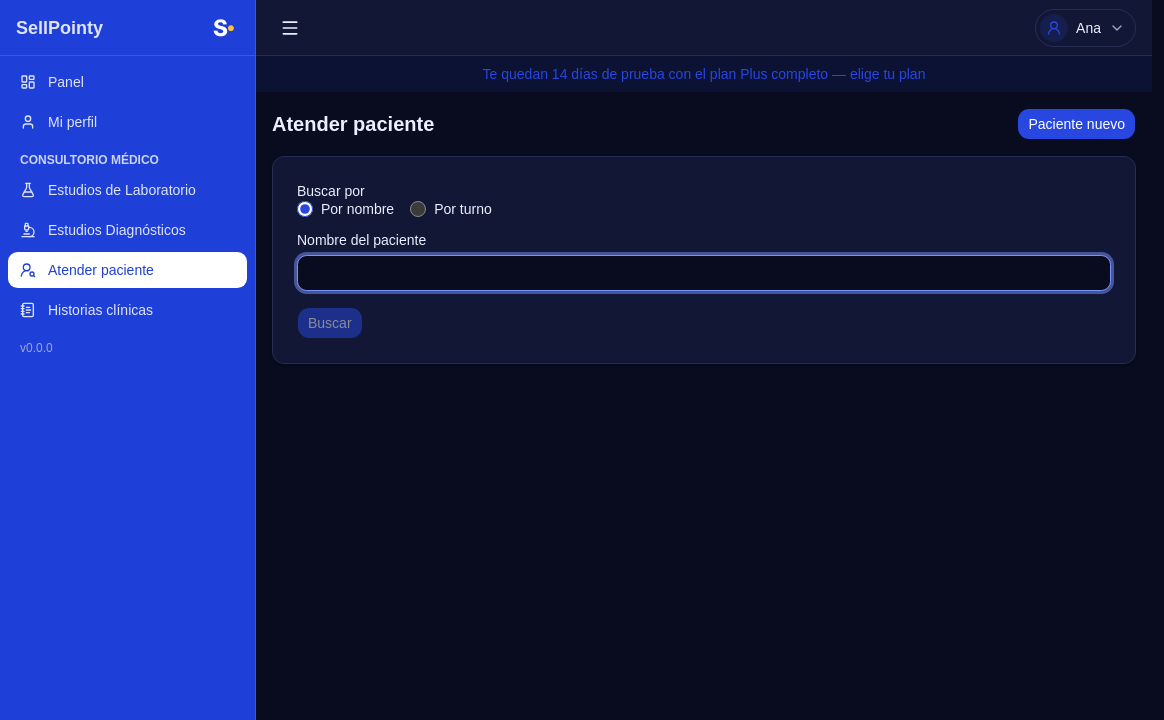
Scenario: Atender paciente (F9-CLINIC-WEB-07) › cambiar a turno vacía el campo, solo admite dígitos y con un acierto NO navega solo
This screenshot has width=1164, height=720.
Type "rosa" into the field labelled "Nombre del paciente" at (704, 273), box [297,255,1111,291]
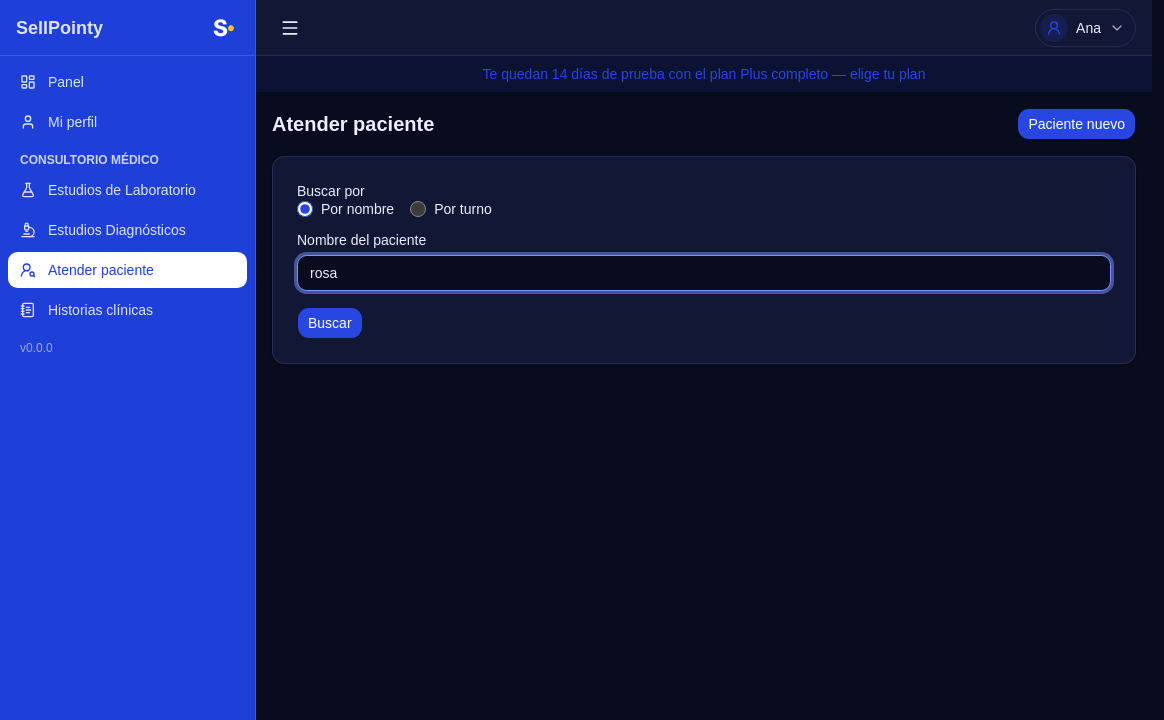
Click the radio button labelled "Por turno" at (418, 209), box [410,201,426,217]
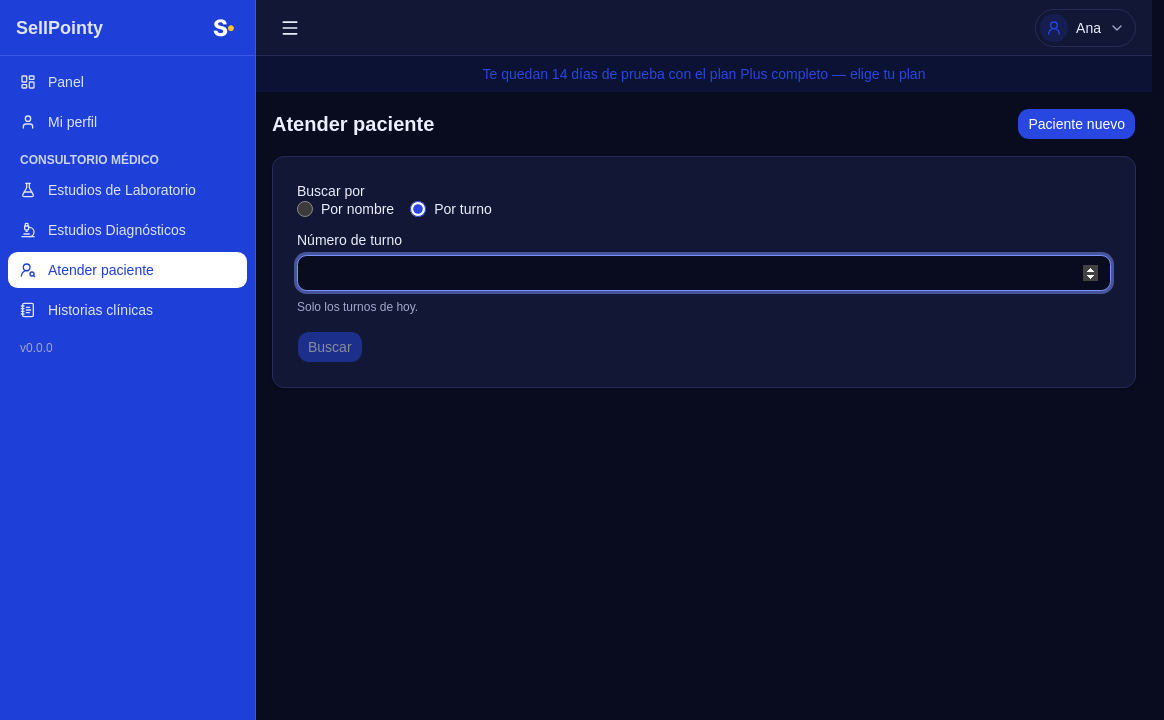
Expected: the number field labelled "Número de turno" is not empty
Type "a12b" into the number field labelled "Número de turno" at (704, 273), box [297,255,1111,291]
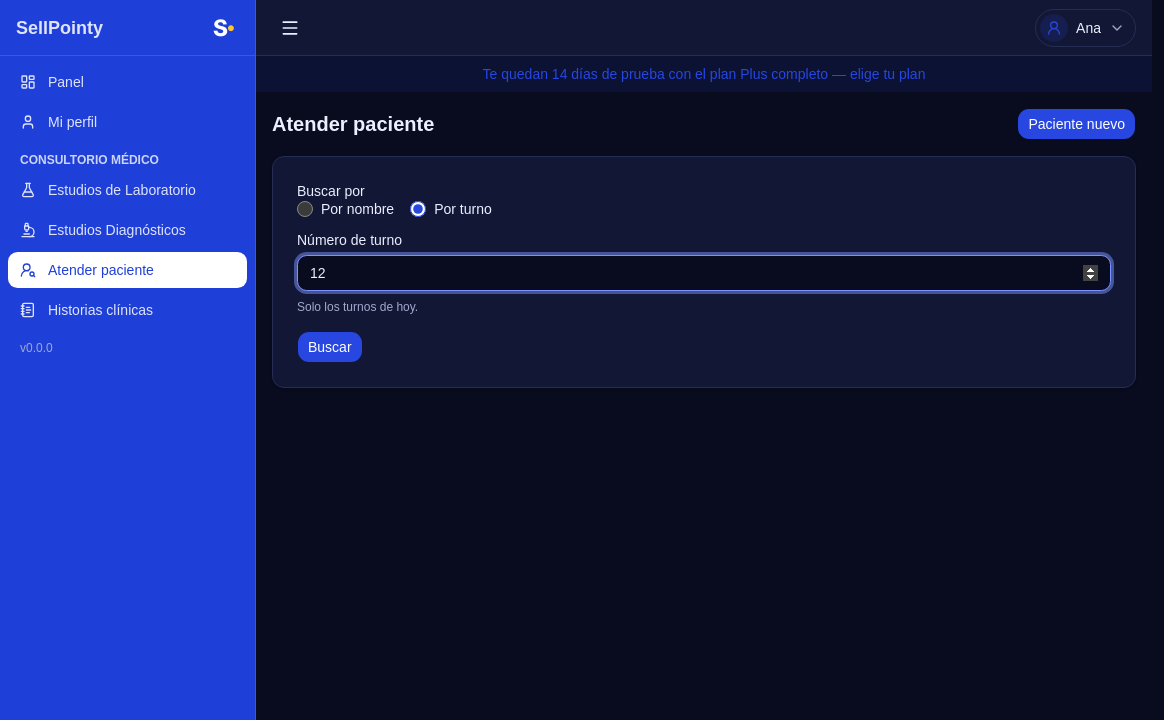
Expected: the number field labelled "Número de turno" holds "12", [297,255,1111,291]
Click the button "Buscar" at (330, 347), box [297,331,363,363]
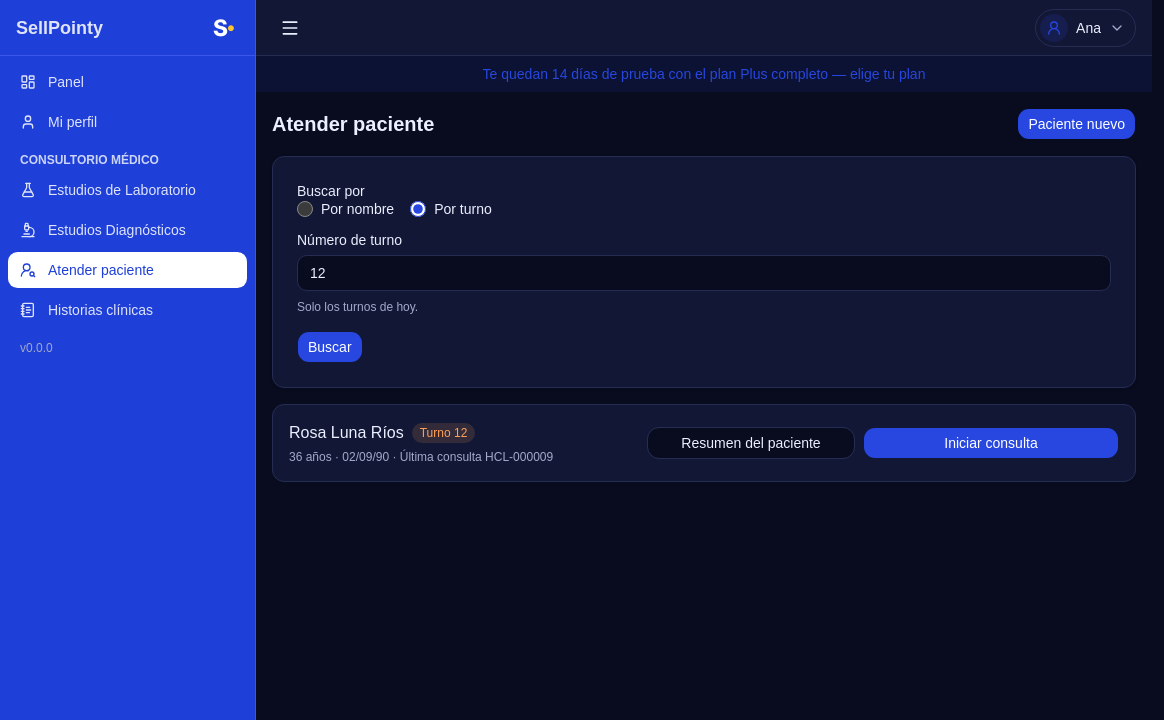
Expected: the list item with test id "patient-c1" shows "Turno 12", [420,426,467,440]
